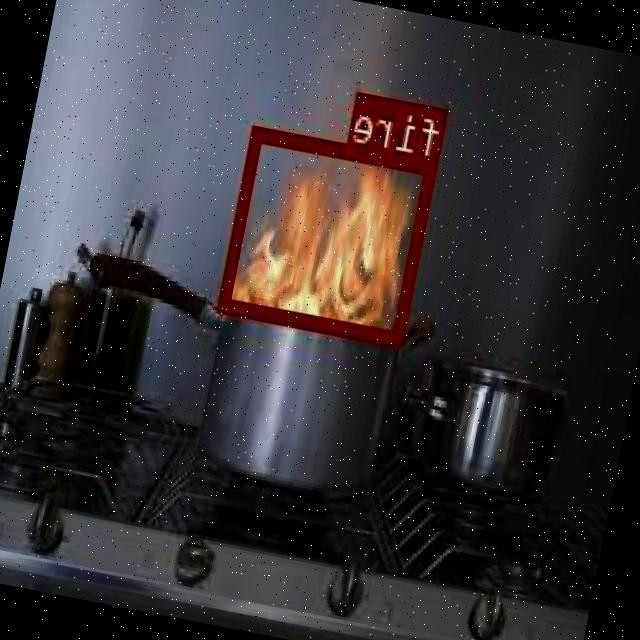fire: (222, 123, 440, 344)
